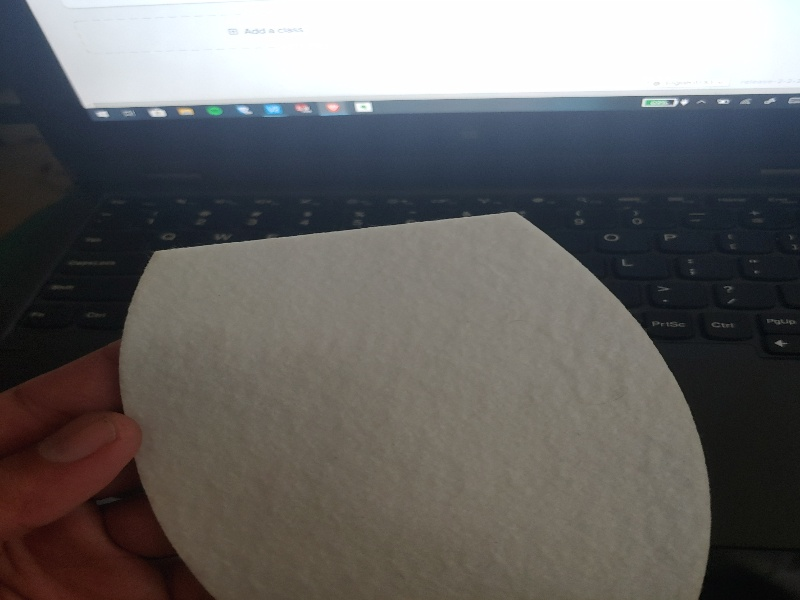Filter: (119, 209, 710, 600)
